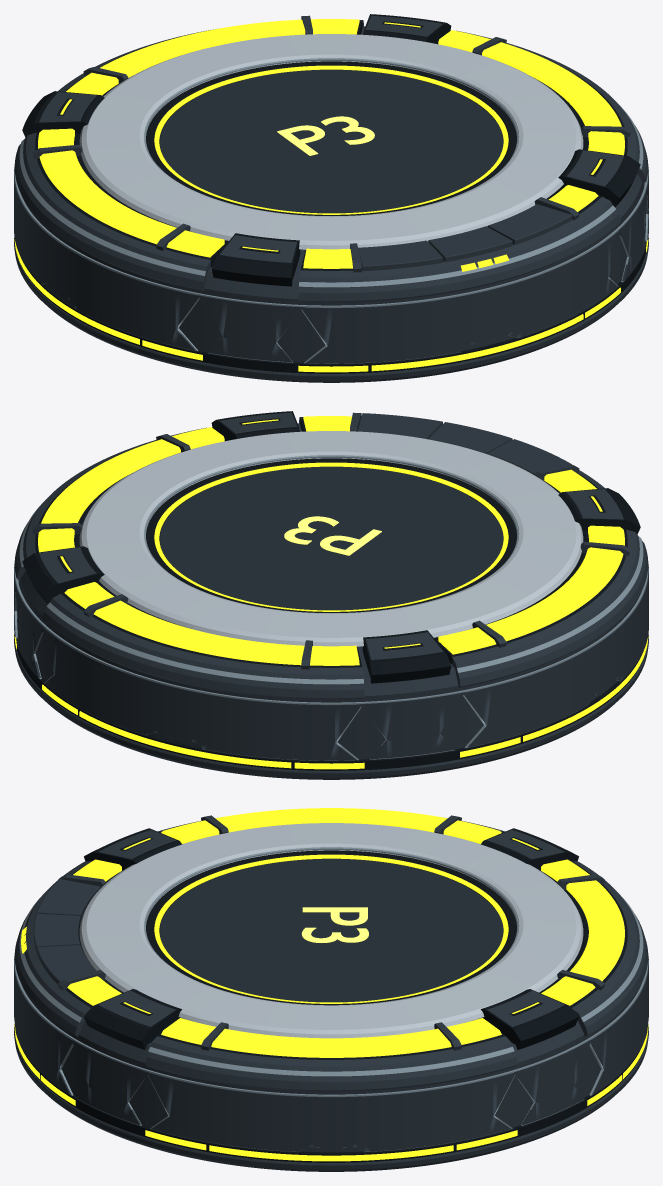
File: Slider.fbx
3 views of the same model, one above another, from view 1: azimuth 30°, elevation 25°; view 2: azimuth 150°, elevation 25°; view 3: azimuth 270°, elevation 25° (orthographic).
Visible parts, largest first — view 1: SM_Puck_Slider_P3_HighDetail; view 2: SM_Puck_Slider_P3_HighDetail; view 3: SM_Puck_Slider_P3_HighDetail.
Boxes of the visible parts, x1,y1,x2,y2 form: SM_Puck_Slider_P3_HighDetail: [14, 14, 648, 382]; SM_Puck_Slider_P3_HighDetail: [14, 411, 648, 779]; SM_Puck_Slider_P3_HighDetail: [14, 808, 648, 1171].
Bounding box in the file's own units: 89.9 × 89.9 × 18.3.
